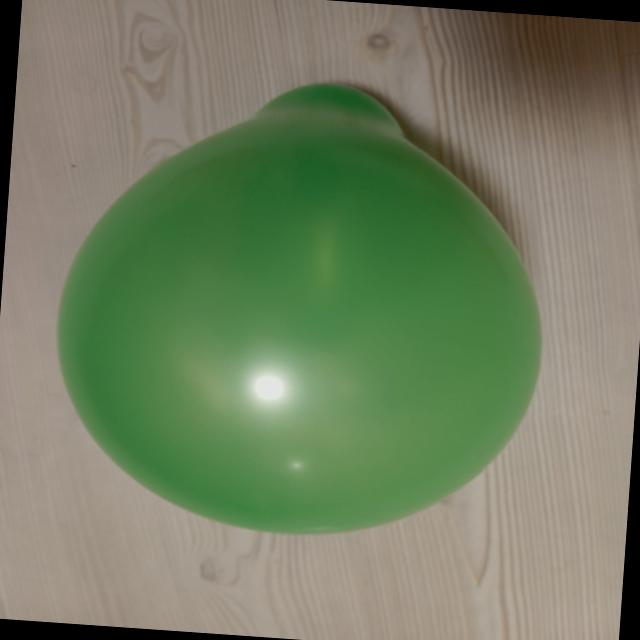balloon: (57, 84, 541, 533)
